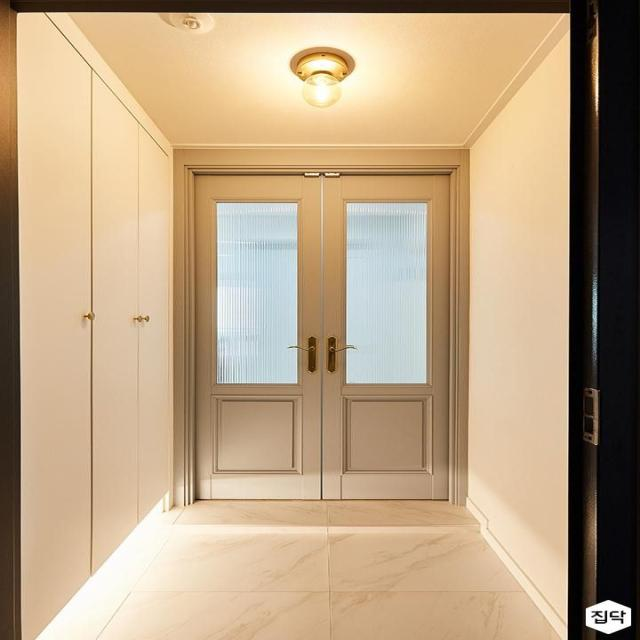door: (191, 169, 454, 501)
obstacle: (13, 11, 176, 638)
